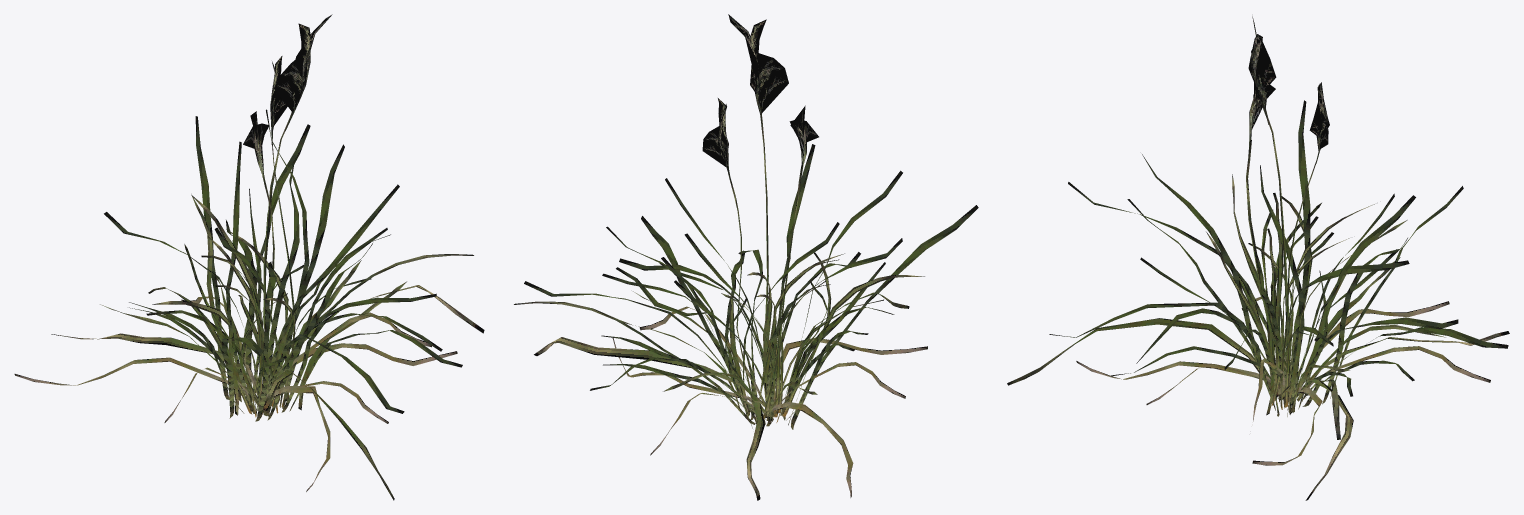
The model's file is natural-grass-quiet.glb.
The picture shows the model from 3 angles, left to right: view 1: azimuth 30°, elevation 25°; view 2: azimuth 150°, elevation 25°; view 3: azimuth 270°, elevation 25°; orthographic projection. The views are drawn at different scales.
Parts seen in each view (by area): view 1: natural-grass-quiet runtime mesh; view 2: natural-grass-quiet runtime mesh; view 3: natural-grass-quiet runtime mesh.
Boxes of the visible parts, x1,y1,x2,y2 form: natural-grass-quiet runtime mesh: (14, 14, 484, 500); natural-grass-quiet runtime mesh: (514, 14, 978, 500); natural-grass-quiet runtime mesh: (1007, 16, 1509, 500).
Bounding box in the file's own units: 0.4649 × 0.44 × 0.4977.
Materials: 1 (1 with a texture image).
